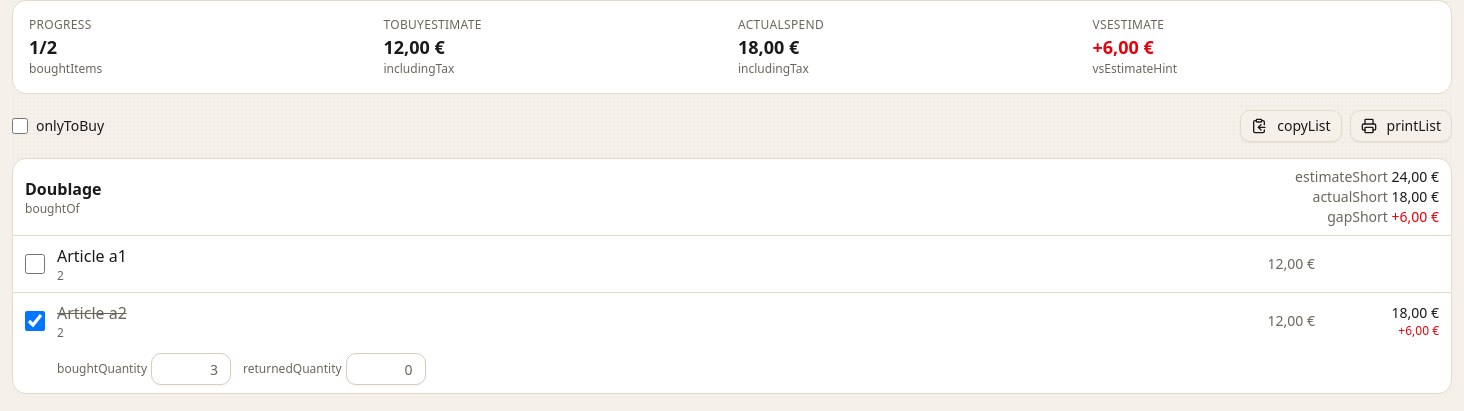
it: ShoppingList › hides bought rows when only the remaining ones are wanted
expect the number of list items with test id "shopping-row" is 2: met, box [13, 236, 1451, 293]; [13, 293, 1451, 393]
Click the checkbox labelled "onlyToBuy" at x=20, y=126, box [12, 118, 28, 134]
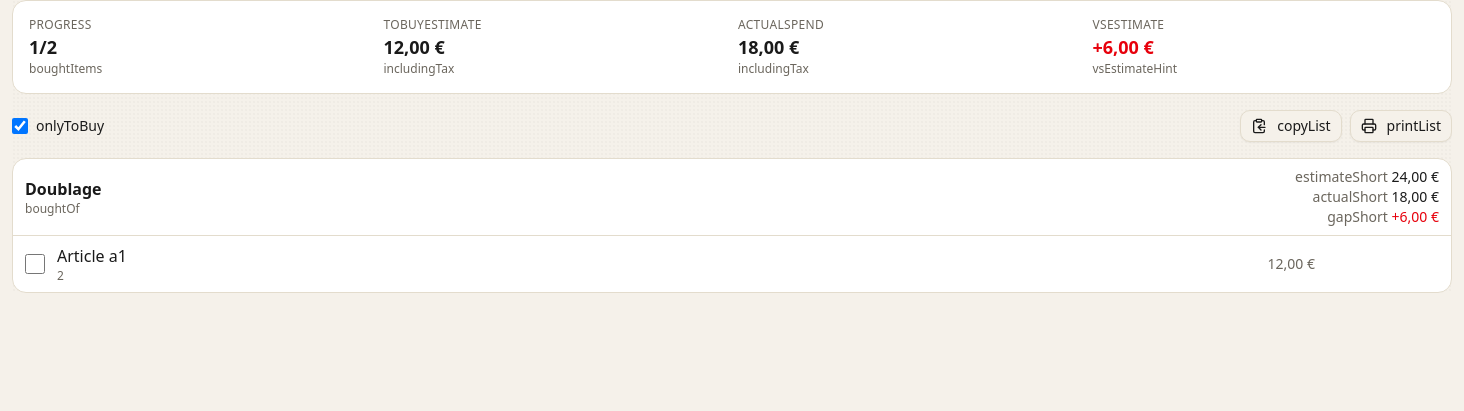
expect the number of list items with test id "shopping-row" is 1: met, box [13, 236, 1451, 292]
